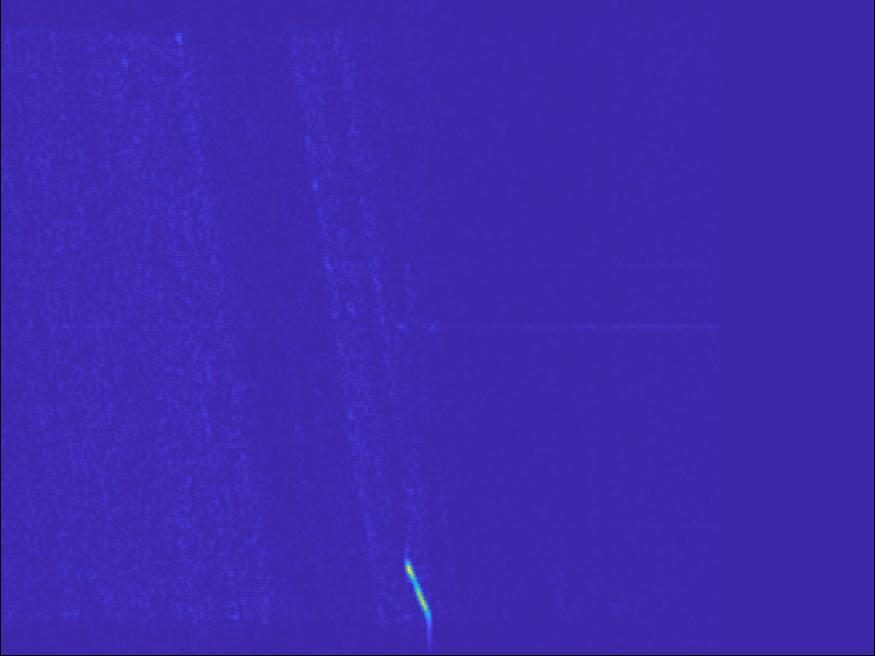Interference: (571, 576, 655, 637)
